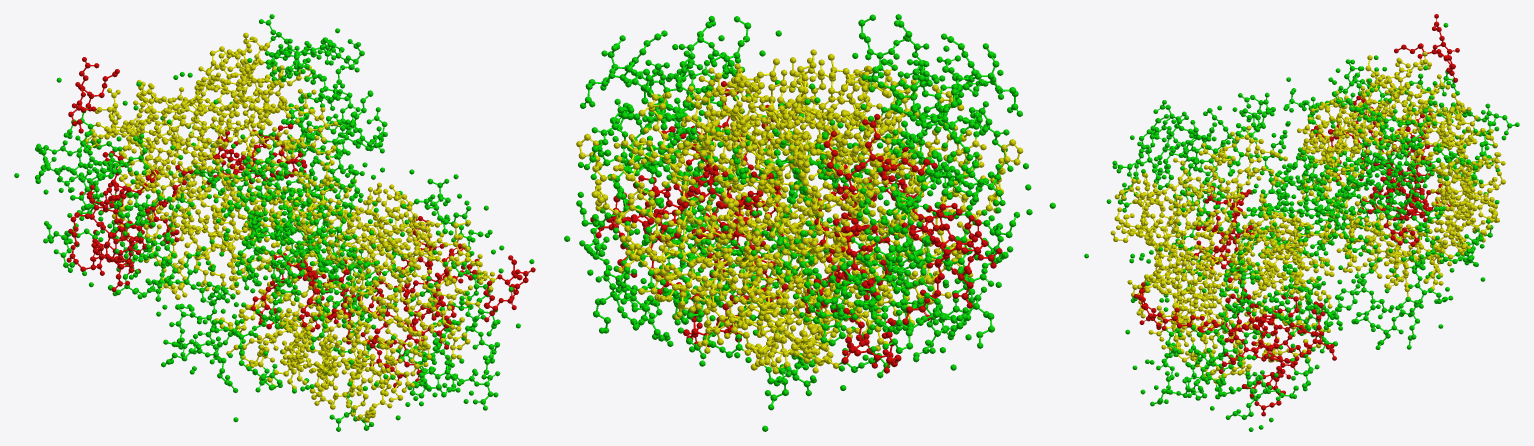
Rendered from 1gfl__ball_and_stick__secondary-structure.glb.
3 views of the same model, side by side, from view 1: azimuth 30°, elevation 25°; view 2: azimuth 150°, elevation 25°; view 3: azimuth 270°, elevation 25° (orthographic). The views are drawn at different scales.
Visible parts, largest first — view 1: Renderer Node; view 2: Renderer Node; view 3: Renderer Node.
Boxes of the visible parts, <box> form: Renderer Node: <box>14,14,535,431</box>; Renderer Node: <box>564,14,1055,431</box>; Renderer Node: <box>1084,14,1519,431</box>.
Size of the model in its own units: 61.93 by 54.35 by 67.59.
